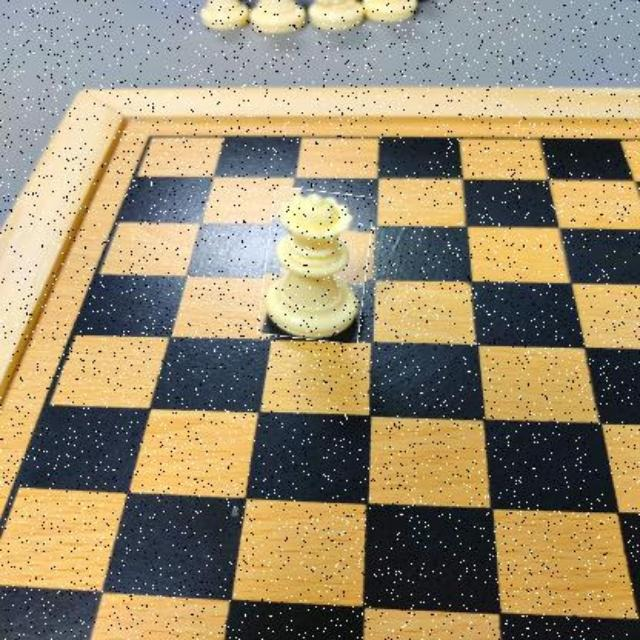white-queen: (261, 189, 370, 341)
